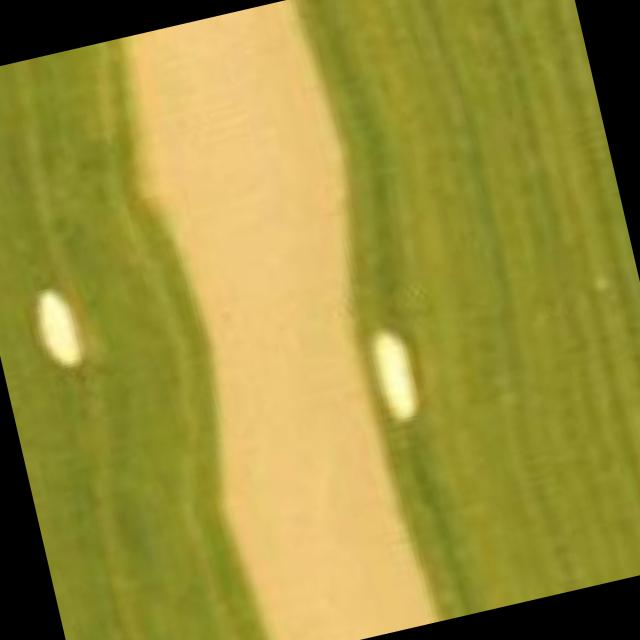whorl-maggot: (362, 314, 437, 444), (22, 265, 101, 386)
